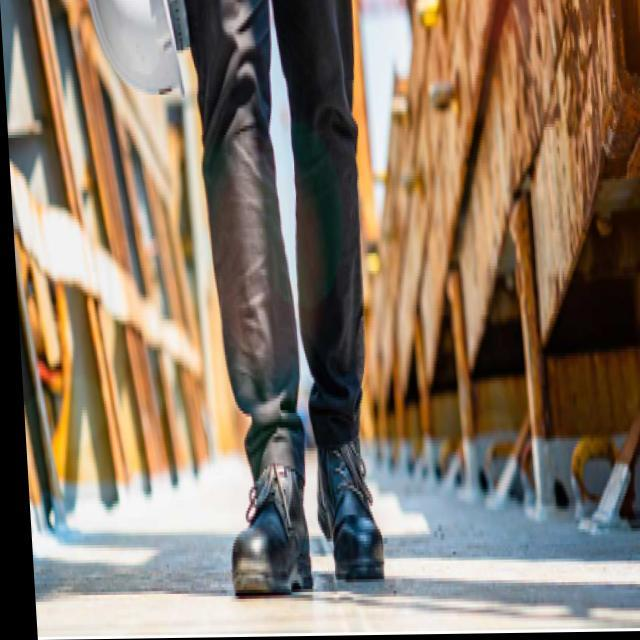shoes: (220, 427, 390, 602)
